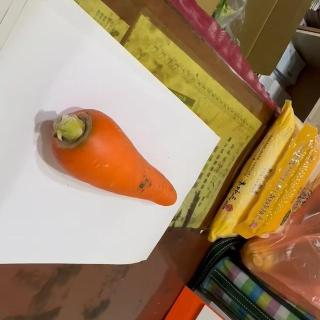carrot: (48, 107, 178, 209)
